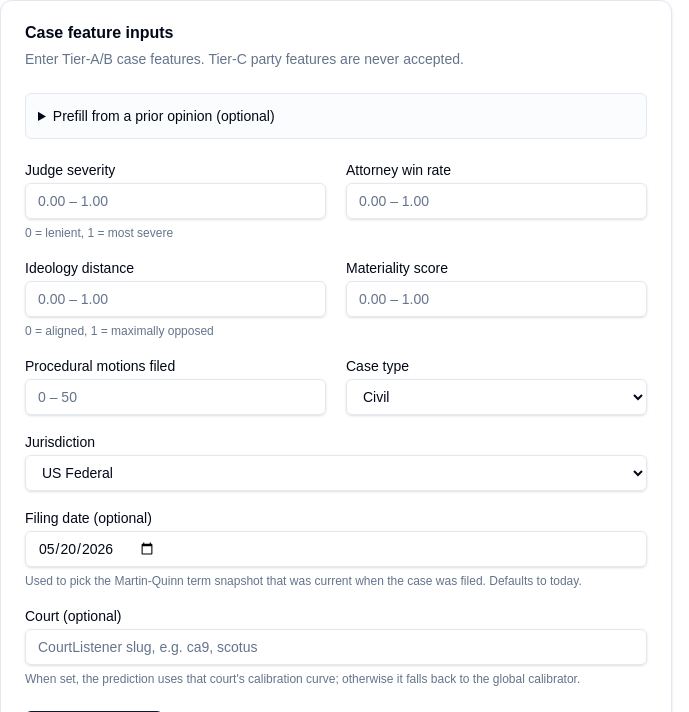
Test case: IntakeForm — S5.8 prefill from prior opinion › does NOT prefill when extractFeatures returns null suggestions
The width and height of the screenshot is (689, 712).
Click the heading "Prefill from a prior opinion (optional)".
click(164, 116)  # box [53, 108, 275, 124]
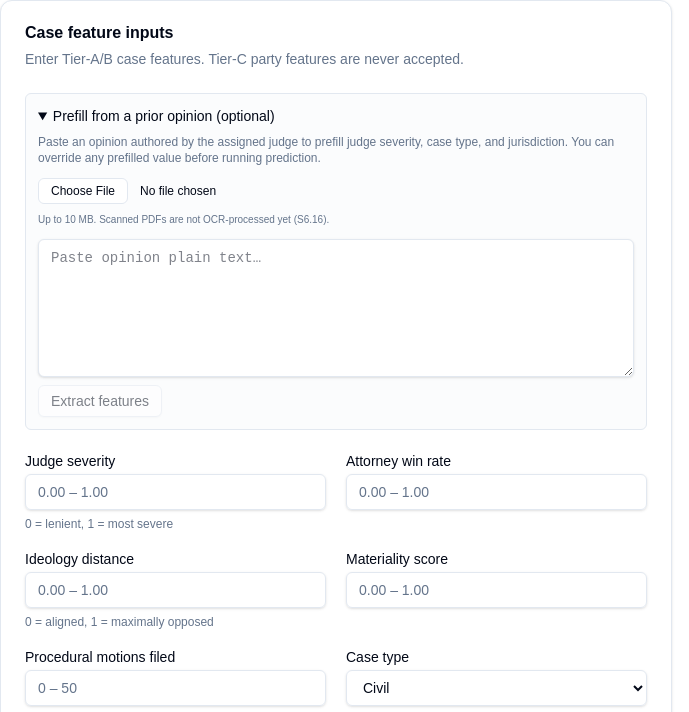
Type "Something with no recognisable judge." into the text box named "opinion text for feature extraction".
click(336, 308); type("Something with no recognisable judge.")  # box [38, 239, 634, 377]
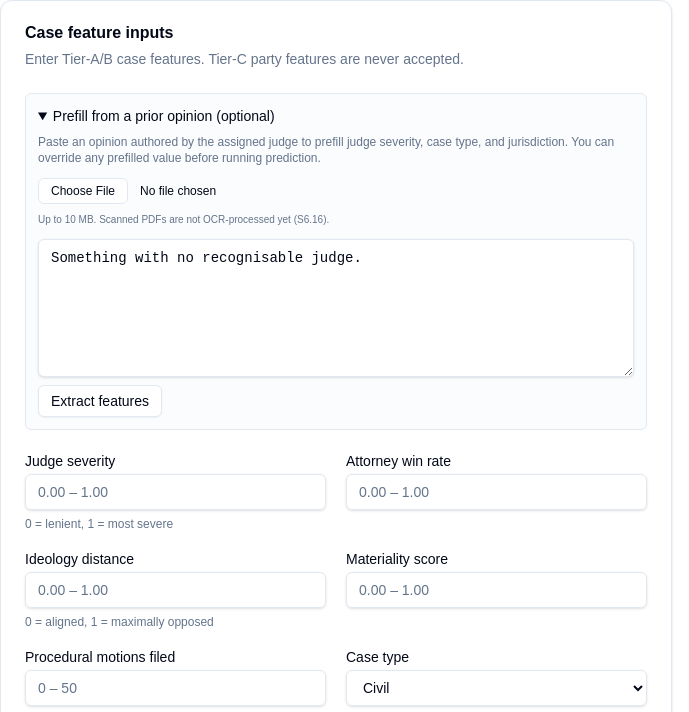
Click the button "Extract features".
click(100, 401)  # box [38, 385, 162, 417]
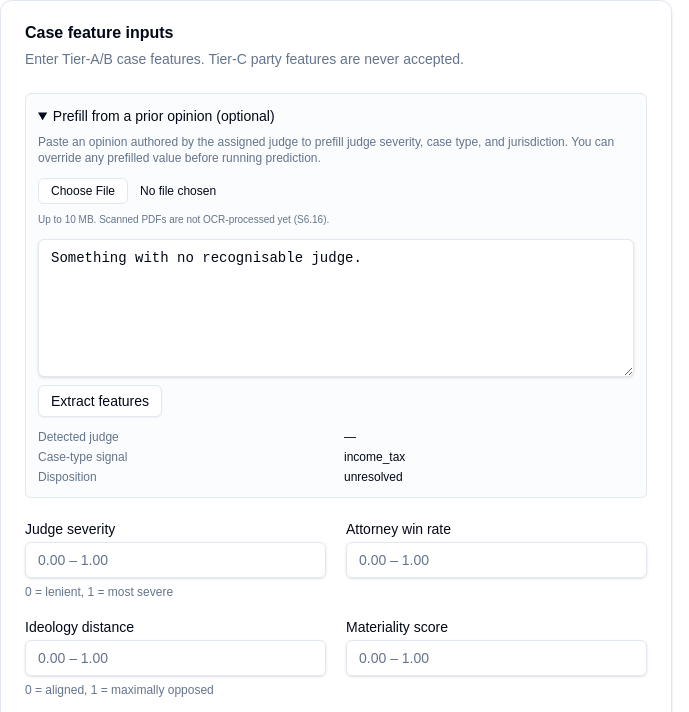
Expected: the number field labelled "Judge severity" is empty, [25, 542, 326, 578]
Expected: the text "income_tax" is shown, [344, 450, 405, 464]
